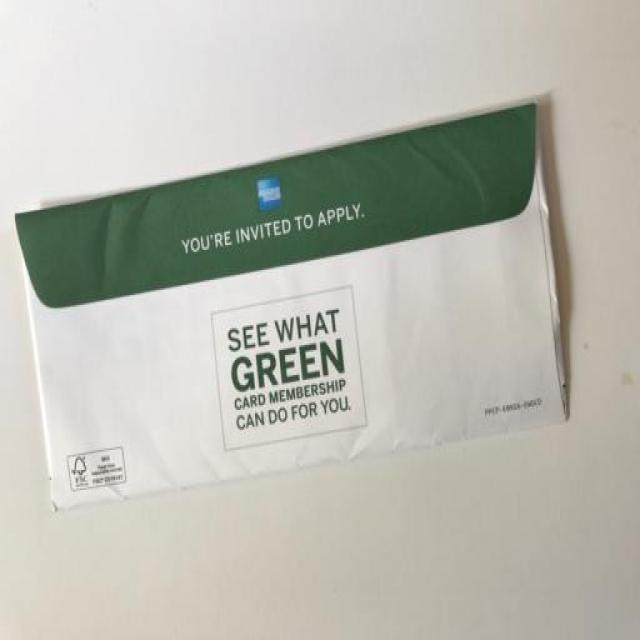paper: (12, 97, 578, 499)
